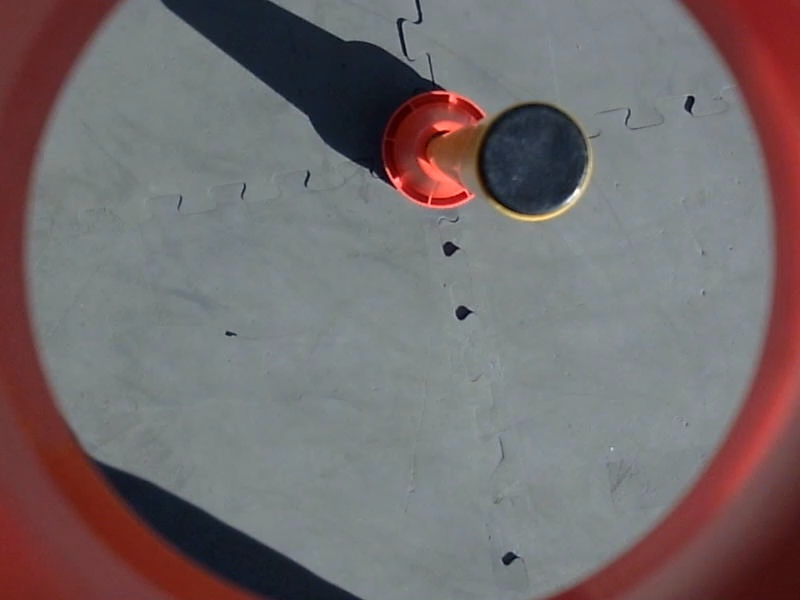tip: (473, 97, 600, 221)
